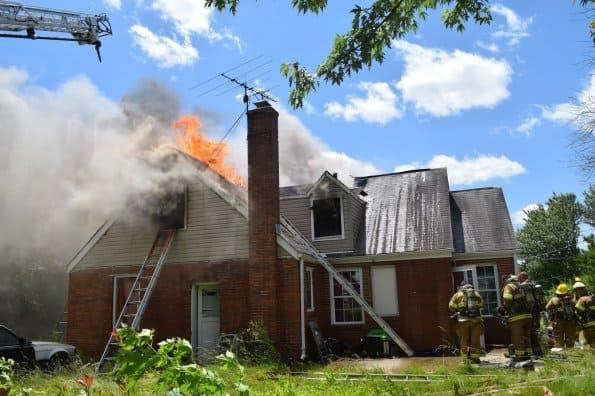fire: (177, 109, 243, 185)
smoke: (1, 81, 176, 272), (282, 136, 317, 192), (176, 160, 220, 194)
